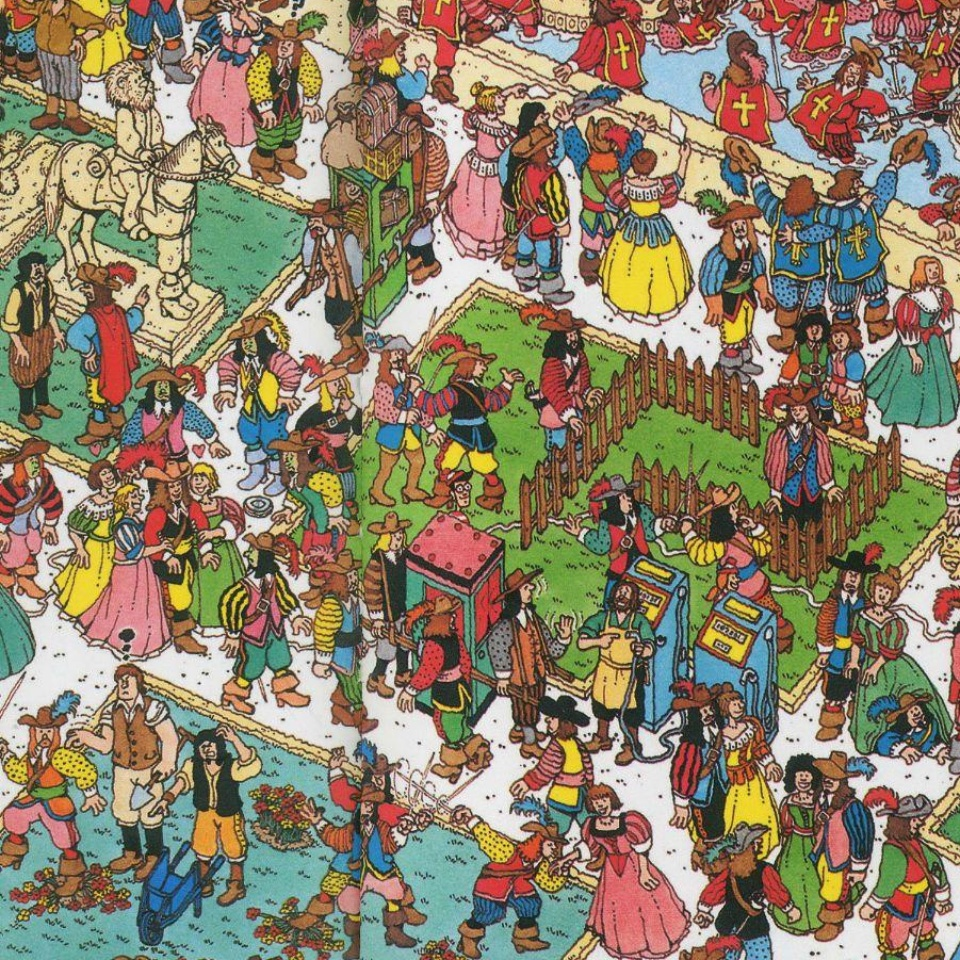waldo: (439, 468, 479, 514)
